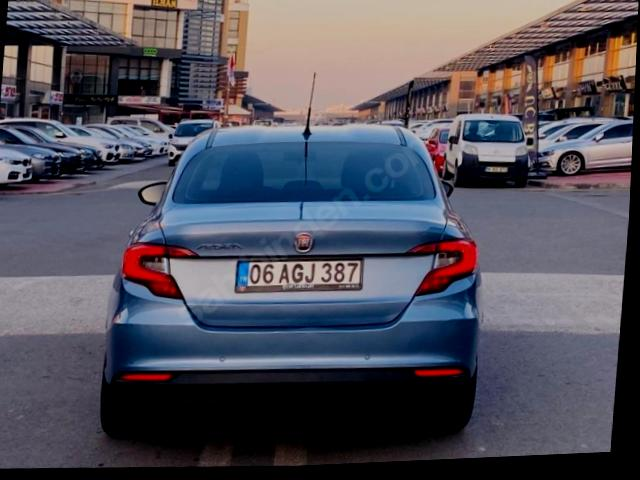plaka: (236, 260, 360, 292)
